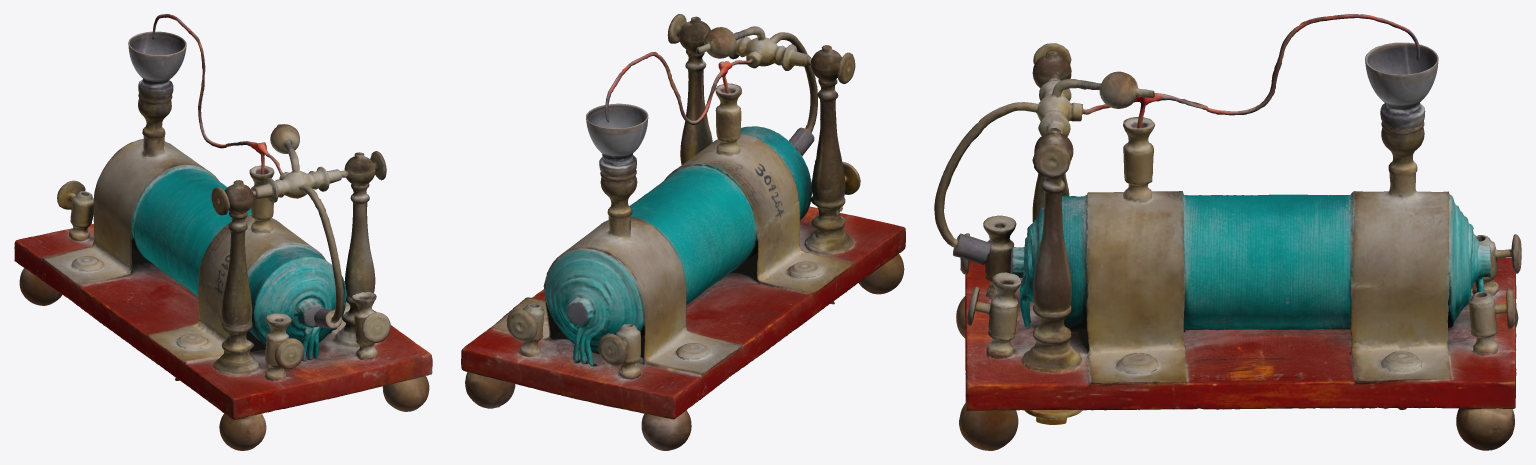
The model's file is Induction Coil 150k.glb.
The picture shows the model from 3 angles, left to right: view 1: azimuth 30°, elevation 25°; view 2: azimuth 150°, elevation 25°; view 3: azimuth 270°, elevation 25°; orthographic projection. The views are drawn at different scales.
Bounding box in the file's own units: 0.1181 × 0.1664 × 0.2309.
1 material, 1 textured.
